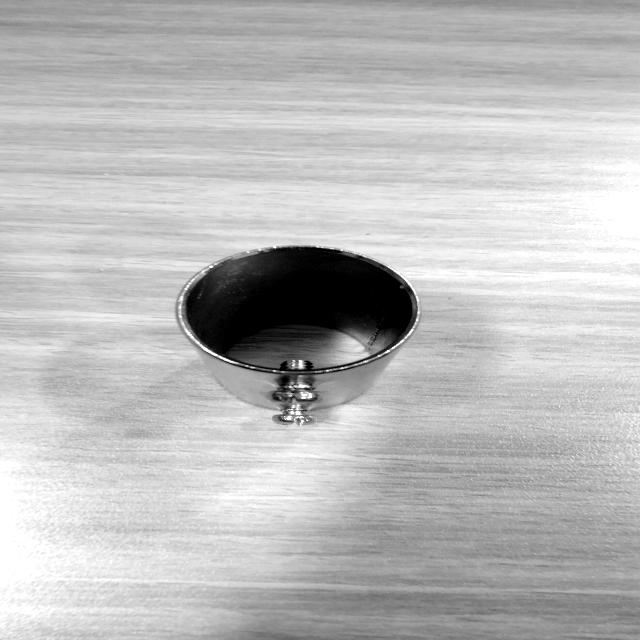Co_Nho: (151, 174, 437, 459)
